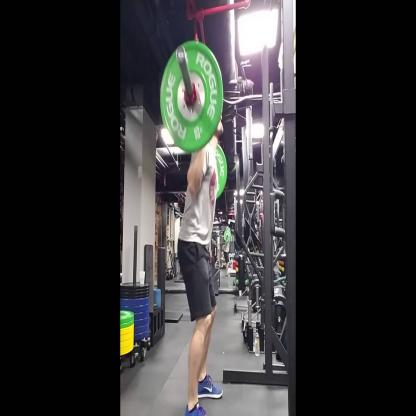Barbell: (159, 36, 225, 156)
